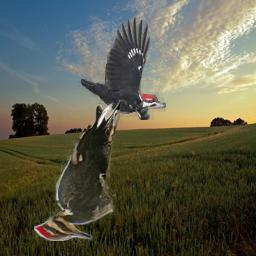Woodpecker: (34, 100, 122, 241), (78, 17, 166, 120)
